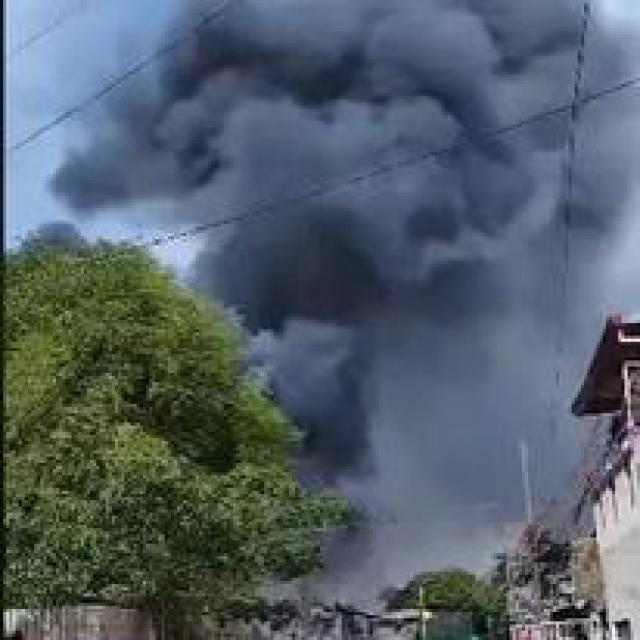Smoke: (164, 0, 640, 481)
